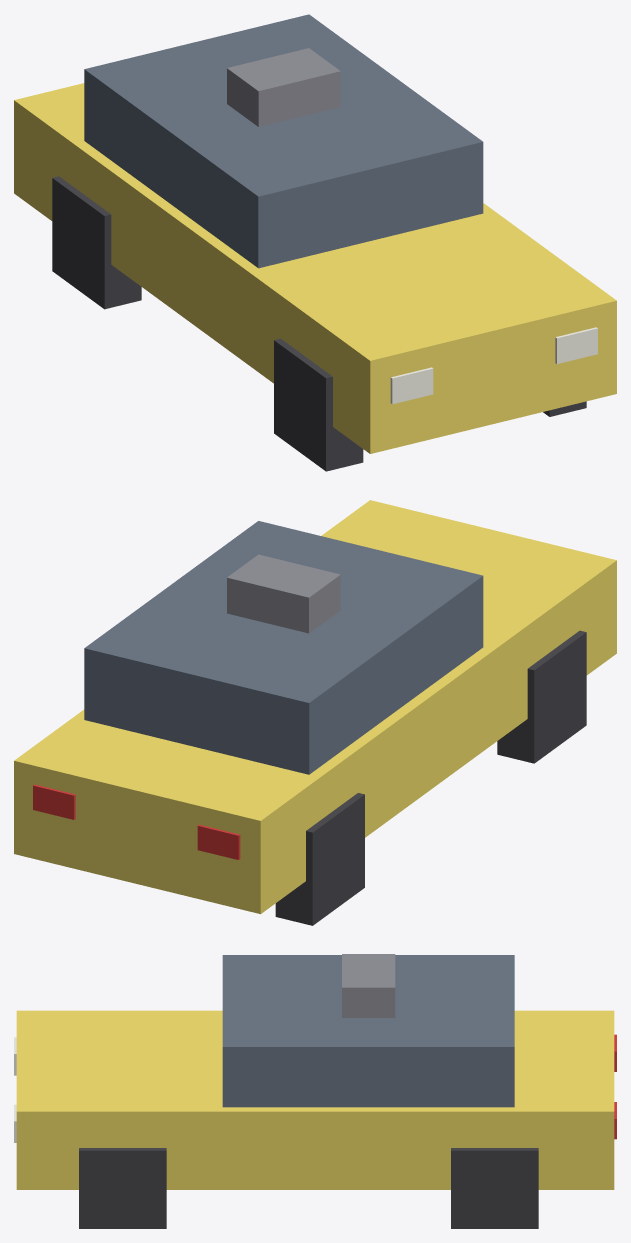
The model's file is taxi.glb.
3 views of the same model, one above another, from view 1: azimuth 30°, elevation 25°; view 2: azimuth 150°, elevation 25°; view 3: azimuth 270°, elevation 25° (orthographic). The views are drawn at different scales.
Size of the model in its own units: 1.9 by 1.7 by 4.54.
